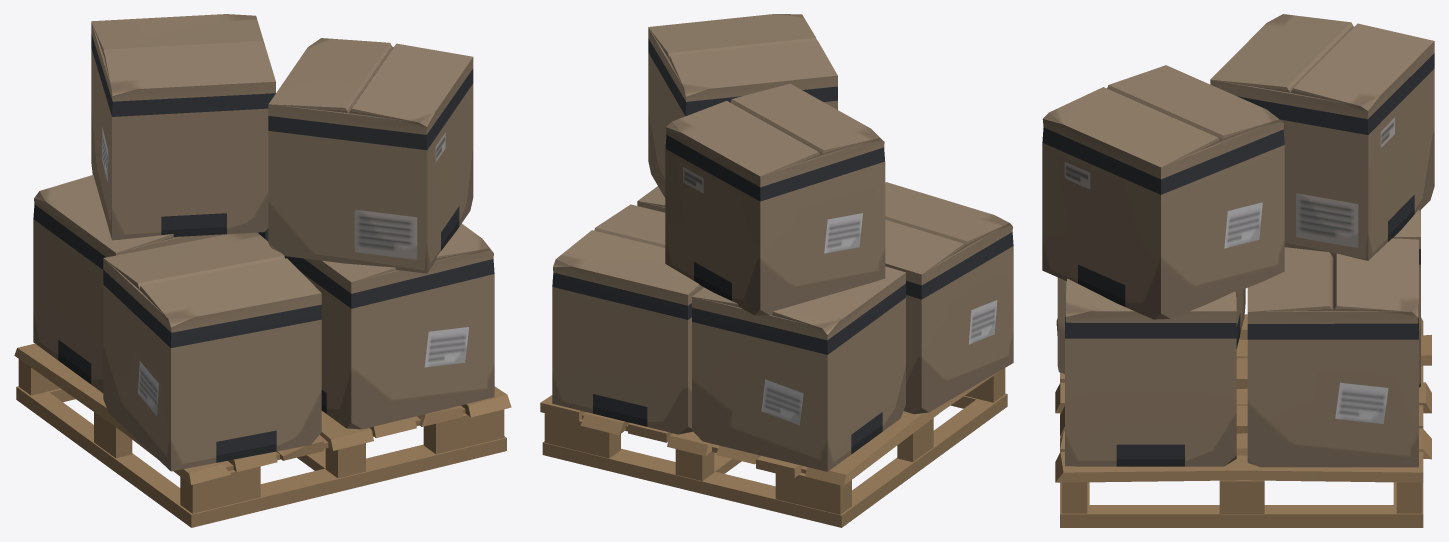
File: SM_Prop_CardboardBox_Stack_02_429.obj
3 views of the same model, side by side, from view 1: azimuth 30°, elevation 25°; view 2: azimuth 150°, elevation 25°; view 3: azimuth 270°, elevation 25° (orthographic). The views are drawn at different scales.
Parts seen in each view (by area): view 1: SM_Prop_CardboardBox_Stack_02_0; view 2: SM_Prop_CardboardBox_Stack_02_0; view 3: SM_Prop_CardboardBox_Stack_02_0.
Boxes of the visible parts, x1,y1,x2,y2 form: SM_Prop_CardboardBox_Stack_02_0: (14, 14, 511, 527); SM_Prop_CardboardBox_Stack_02_0: (540, 14, 1013, 527); SM_Prop_CardboardBox_Stack_02_0: (1042, 14, 1434, 527).
Size of the model in its own units: 1.55 by 1.55 by 1.48.
1 material, 1 textured.
